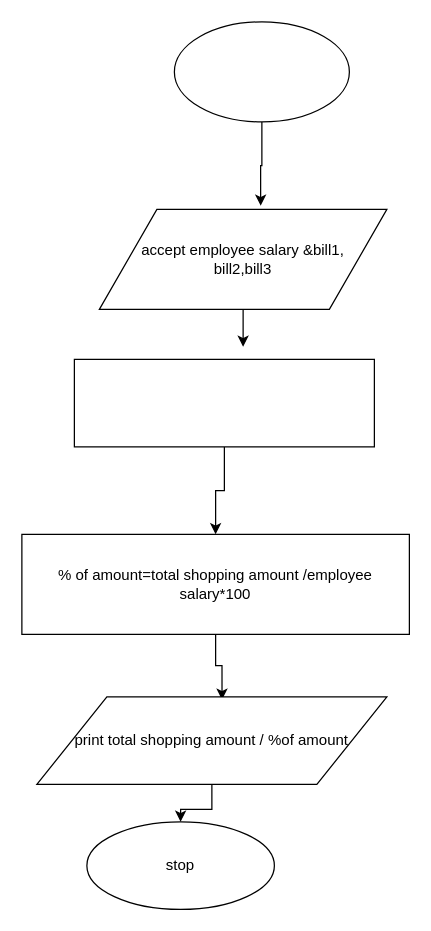
Image size: 431x931. Some labels were removed from this diagram. The centre of each missing label's shape, as x and y in pixels:
"start" goes at (261,71).
"total shopping amount=bill1+bill2+bill3" goes at (223,402).
